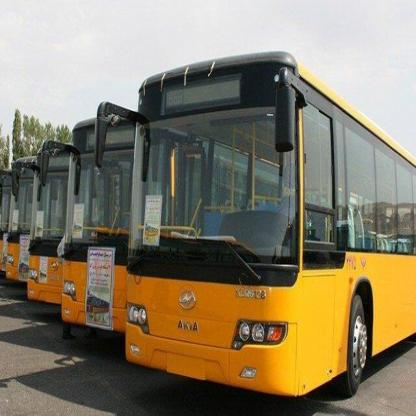Bus: (132, 46, 416, 396), (63, 104, 133, 340), (27, 143, 71, 313), (0, 150, 38, 296)
